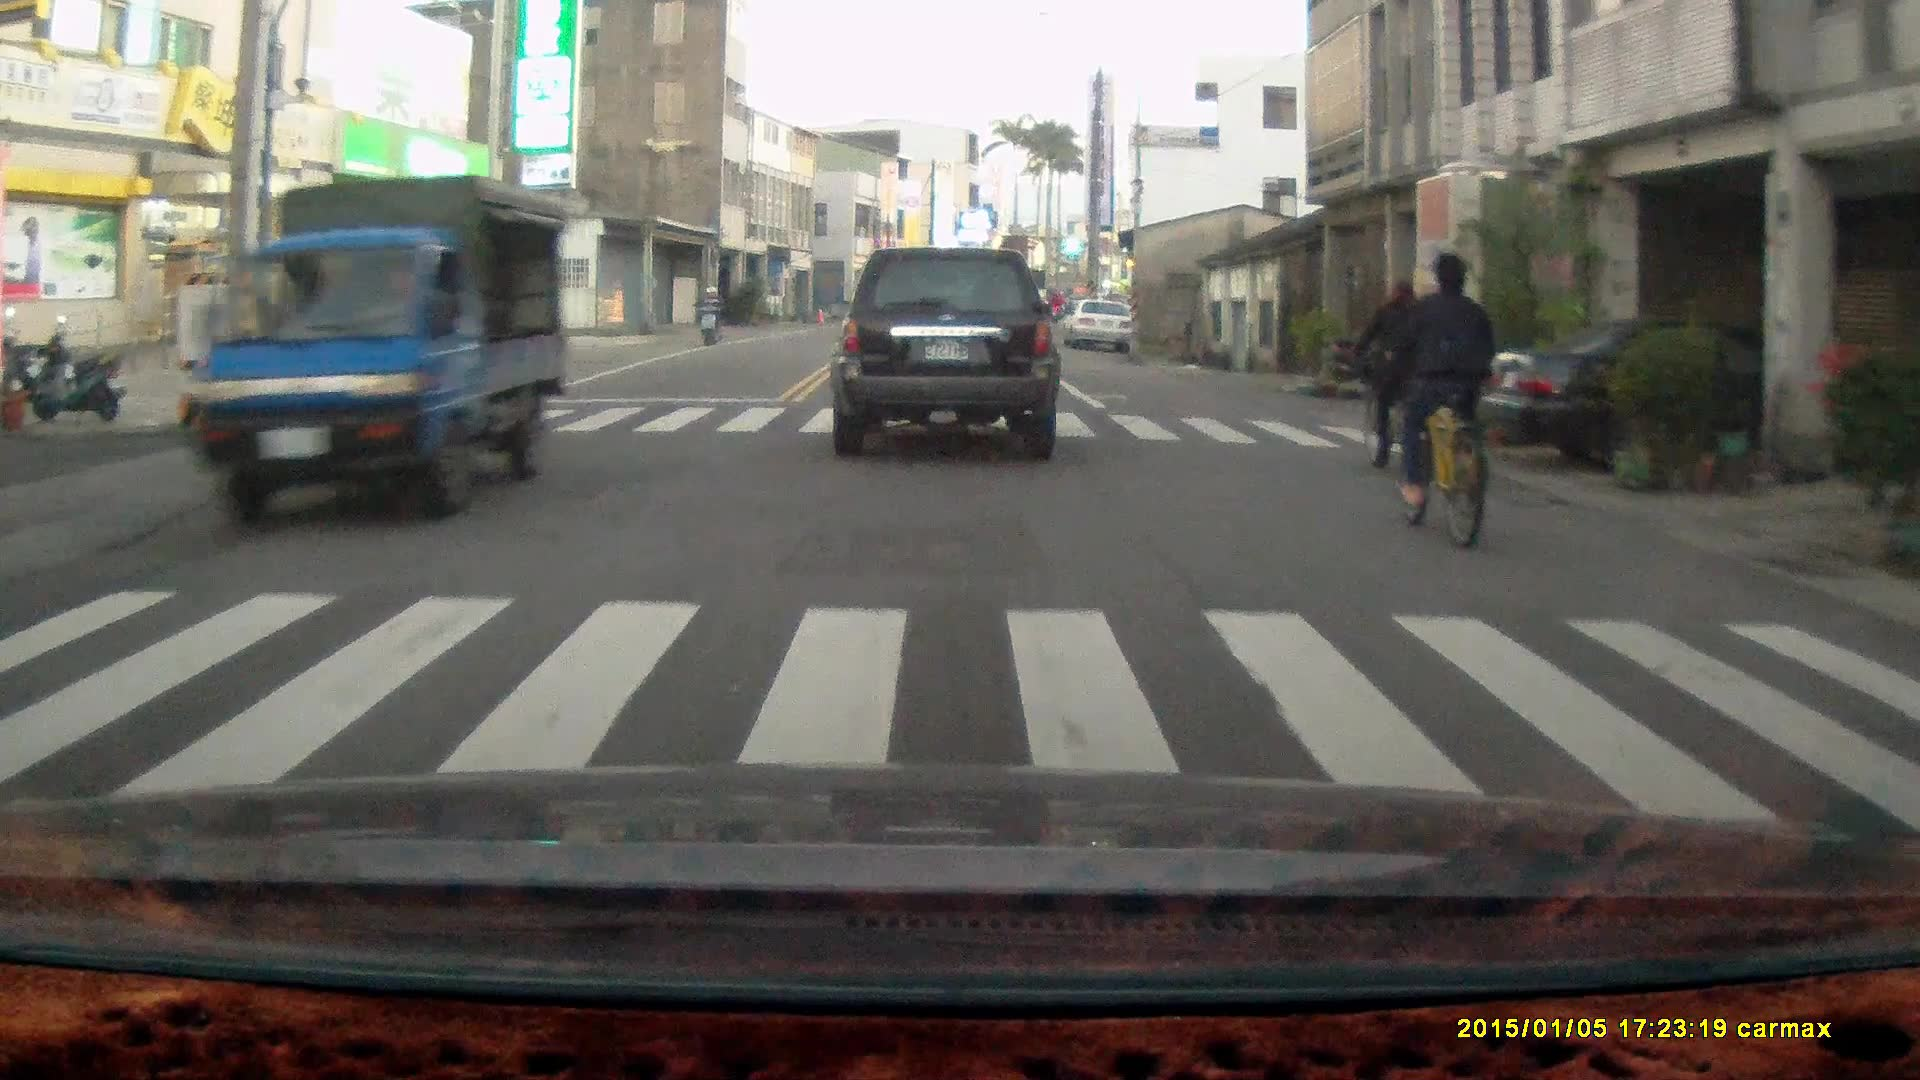rider: (1379, 253, 1494, 555), (1350, 279, 1428, 484), (695, 281, 723, 347)
vehicle: (188, 171, 563, 523), (1474, 315, 1908, 486), (827, 246, 1062, 460), (1060, 302, 1136, 357)
